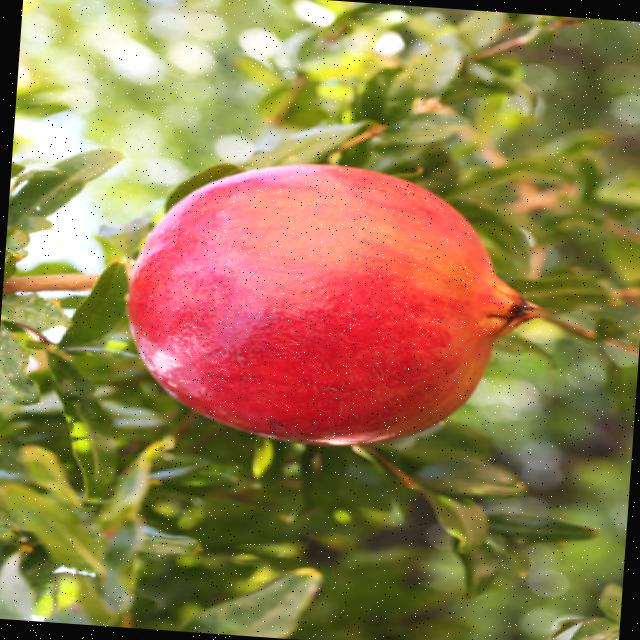Ripe: (108, 143, 553, 466)
